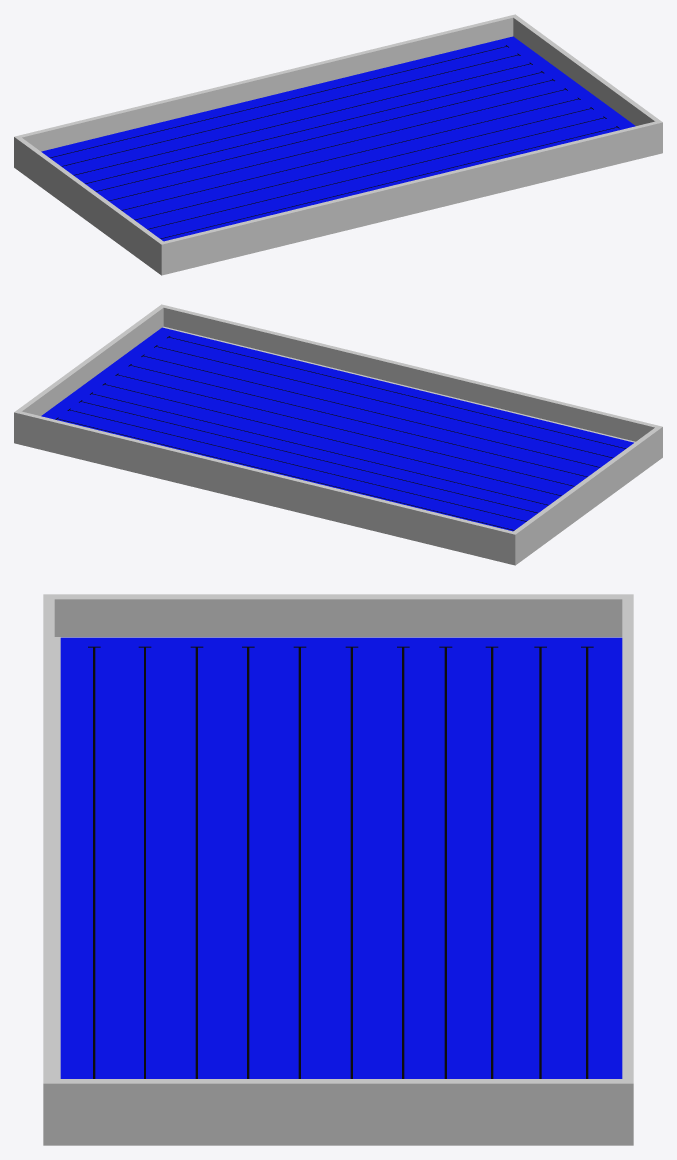
File: pool.dae
The picture shows the model from 3 angles, top to bottom: view 1: azimuth 30°, elevation 25°; view 2: azimuth 150°, elevation 25°; view 3: azimuth 270°, elevation 25°; orthographic projection. The views are drawn at different scales.
Visible parts, largest first — view 1: pool; view 2: pool; view 3: pool.
Boxes of the visible parts, left/top/right/bottom form: pool: left=14, top=14, right=662, bottom=275; pool: left=14, top=304, right=662, bottom=565; pool: left=43, top=594, right=633, bottom=1145.
Size of the model in its own units: 51 by 26 by 3.
